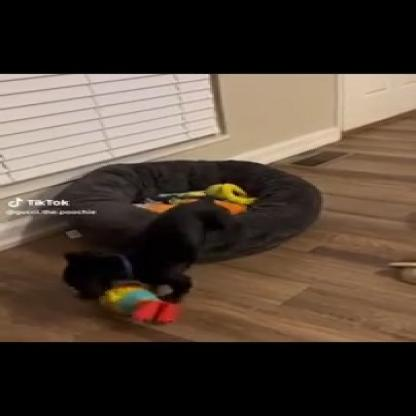dog: (69, 197, 257, 302)
